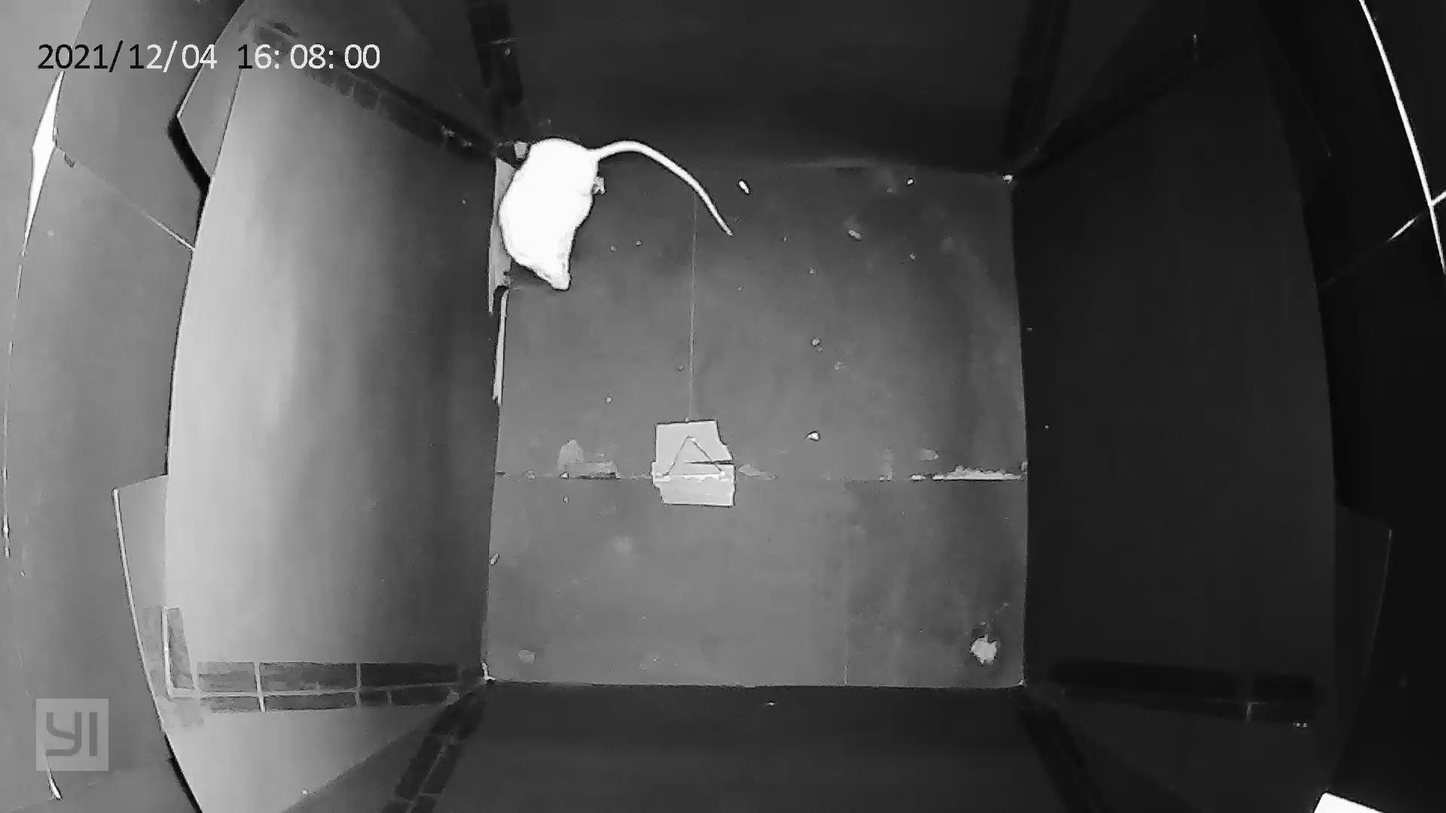rat: (459, 115, 750, 300)
